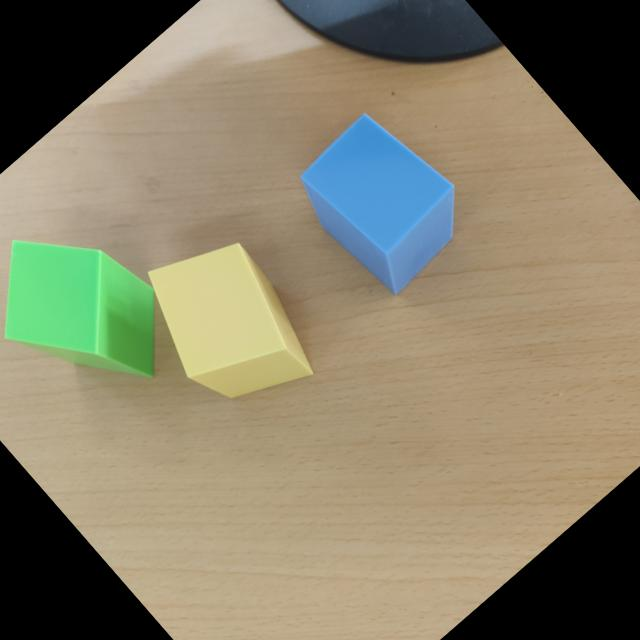blue: (301, 114, 457, 295)
green: (4, 240, 160, 380)
yellow: (150, 243, 314, 400)
